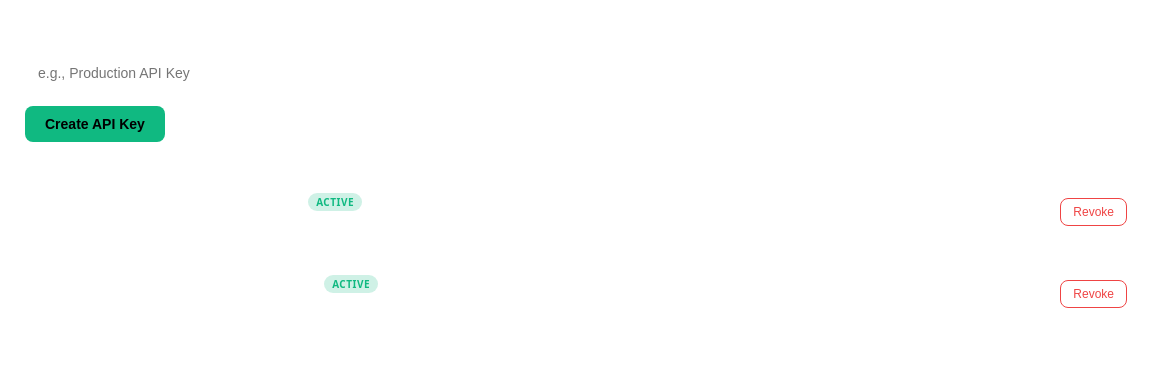
Test case: APIKeyManager › new key display › should show "Copied!" after successful copy
Type "New Key" into the field named "API key name" at {"x": 495, "y": 73}, box [25,54,965,92]
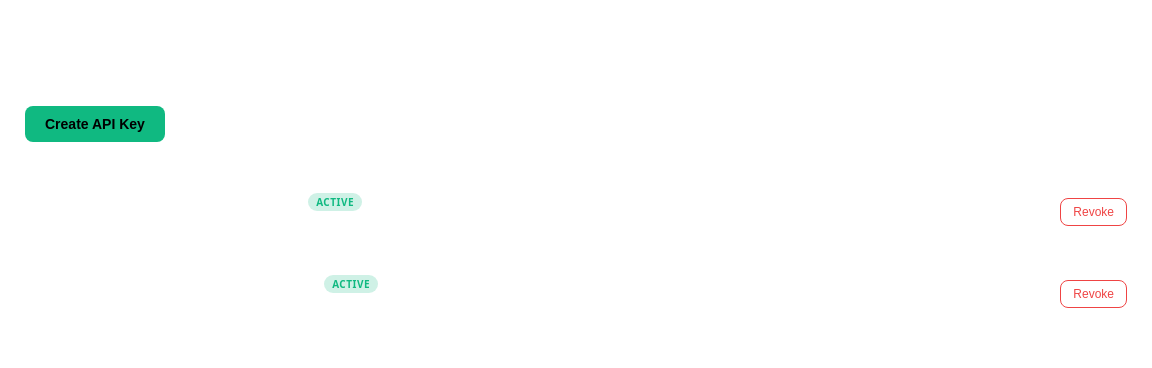
Click the button "Create API Key" at {"x": 95, "y": 124}, box [25,106,165,142]
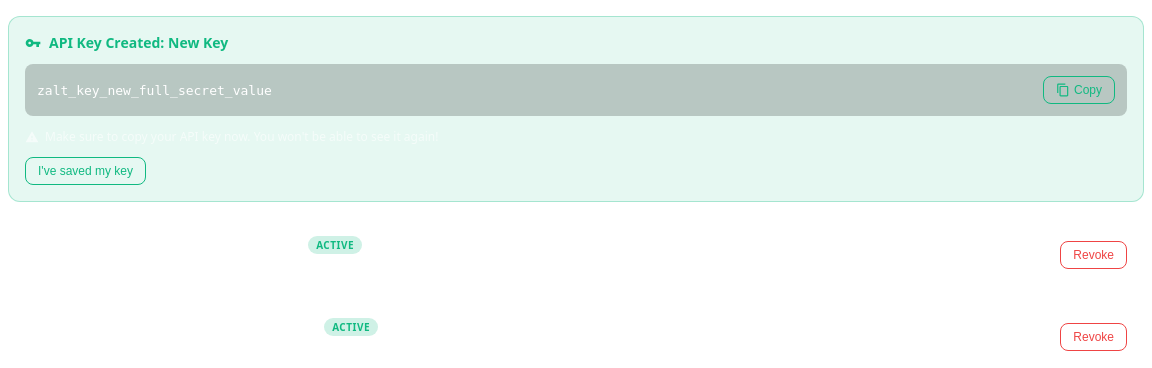
Check: the button with aria-label "Copy API key" is shown
Click the button with aria-label "Copy API key" at {"x": 1079, "y": 90}, box [1043,76,1115,104]
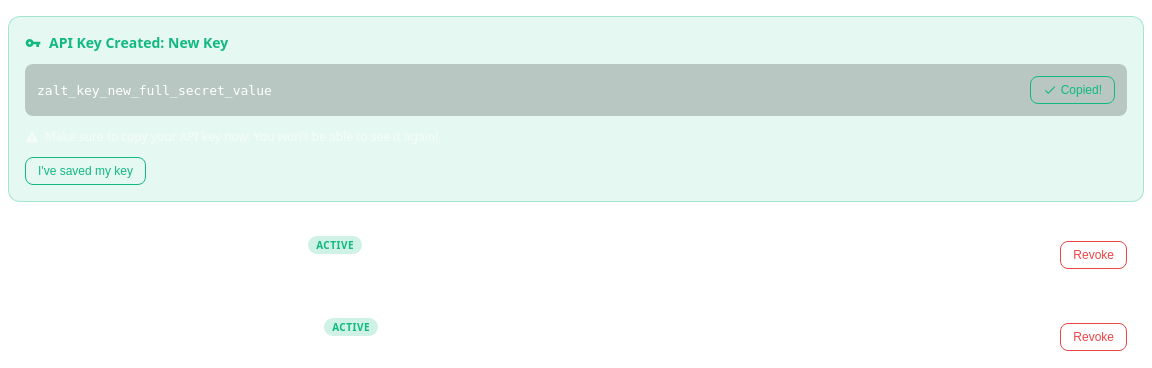
Check: the button "Copied!" is shown, box [1030,76,1115,104]
